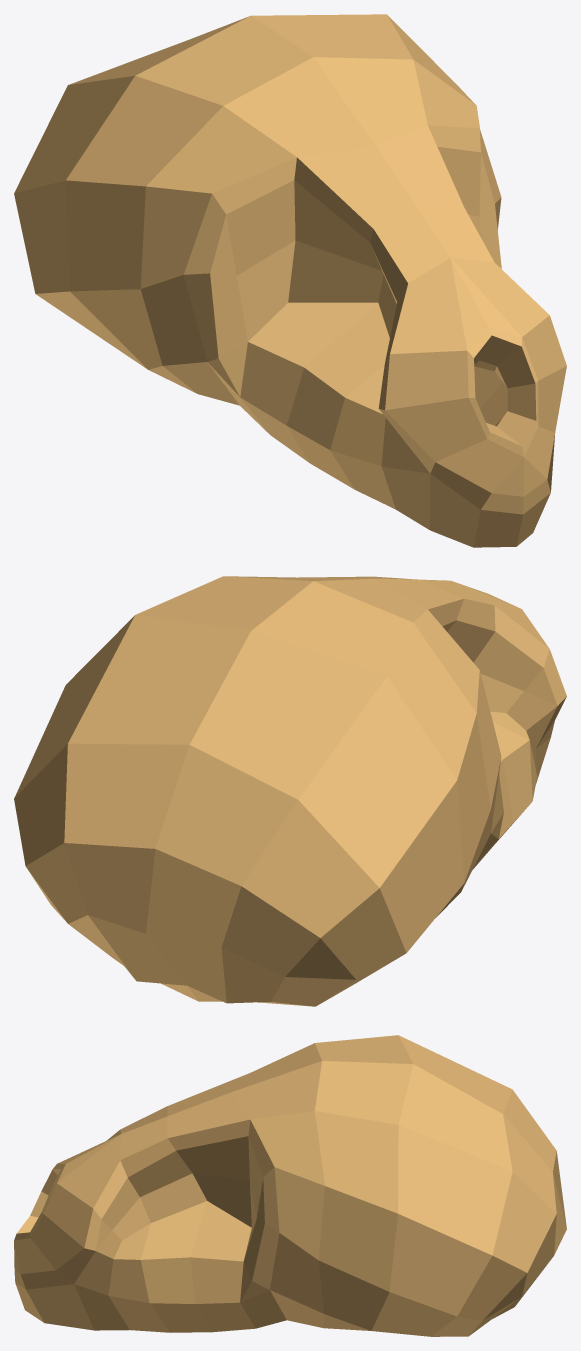
Rendered from Skull_01.fbx.
The picture shows the model from 3 angles, top to bottom: view 1: azimuth 30°, elevation 25°; view 2: azimuth 150°, elevation 25°; view 3: azimuth 270°, elevation 25°; orthographic projection. The views are drawn at different scales.
Parts seen in each view (by area): view 1: Skull_01; view 2: Skull_01; view 3: Skull_01.
Boxes of the visible parts, box(x1,y1,x2,y2) form: Skull_01: box(14, 14, 566, 547); Skull_01: box(14, 576, 566, 1006); Skull_01: box(14, 1035, 566, 1336).
Size of the model in its own units: 45.93 by 39.72 by 76.29.
